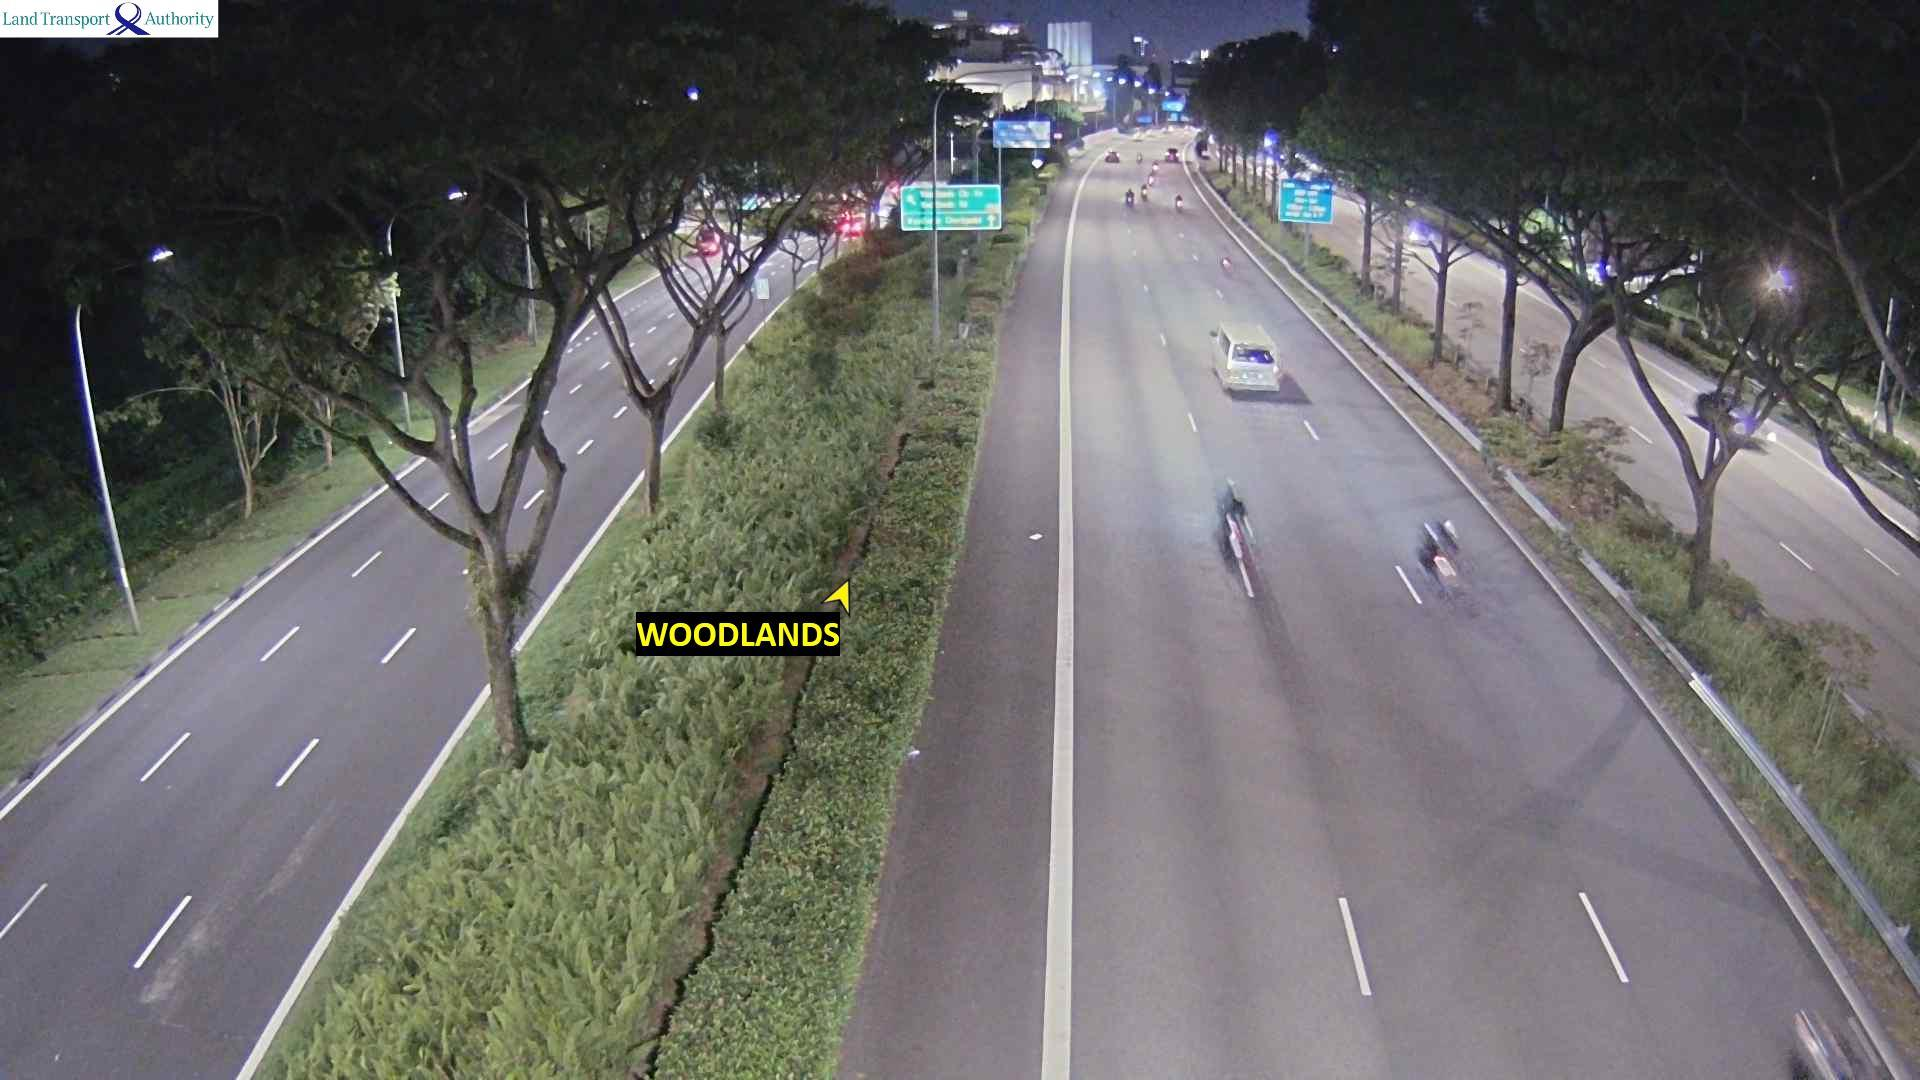cars: (1208, 320, 1282, 393), (1788, 1006, 1855, 1077), (1692, 386, 1766, 438), (1695, 385, 1741, 421), (1764, 261, 1796, 299), (1404, 218, 1433, 247), (1164, 146, 1182, 162), (1104, 149, 1120, 162)
motorcycle: (1217, 477, 1259, 600), (1416, 516, 1461, 601), (1220, 253, 1233, 273), (1125, 189, 1137, 207), (1172, 194, 1183, 210), (1151, 161, 1160, 175), (1141, 182, 1147, 202), (1147, 173, 1155, 186), (1135, 152, 1143, 164)
